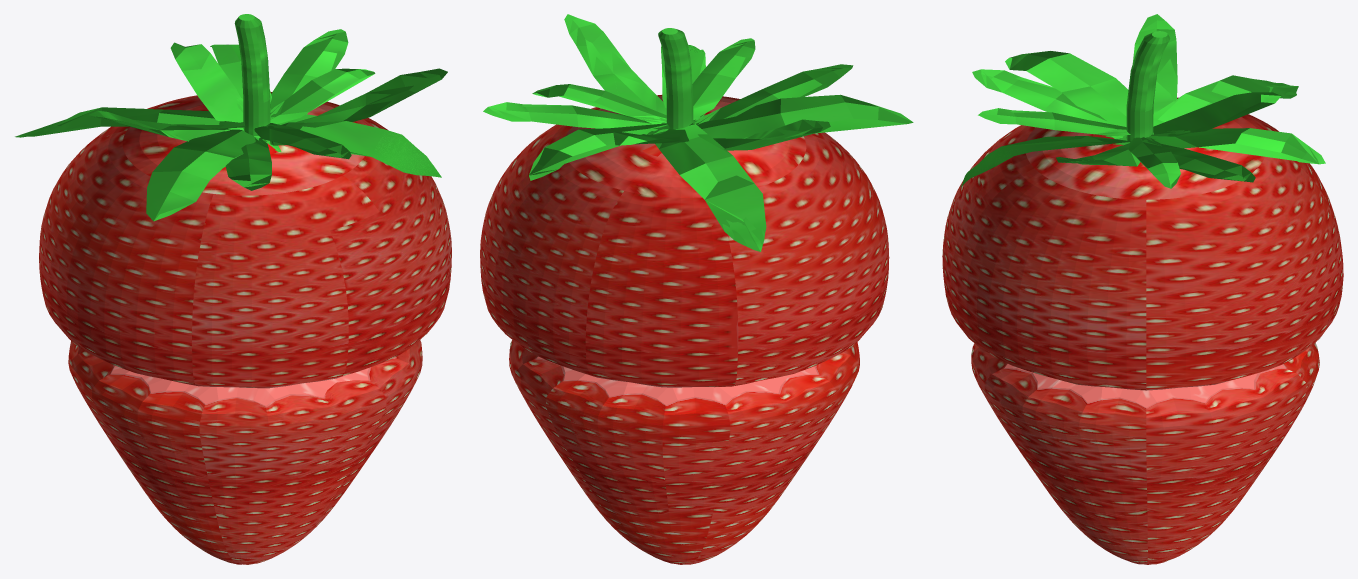
Rendered from StrawberrySliced.fbx.
The picture shows the model from 3 angles, left to right: view 1: azimuth 30°, elevation 25°; view 2: azimuth 150°, elevation 25°; view 3: azimuth 270°, elevation 25°; orthographic projection.
Parts seen in each view (by area): view 1: Top, Bottom; view 2: Top, Bottom; view 3: Top, Bottom.
Boxes of the visible parts, x1,y1,x2,y2 form: Top: [15, 14, 451, 388]; Bottom: [68, 340, 422, 564]; Top: [480, 14, 913, 387]; Bottom: [509, 340, 859, 564]; Top: [942, 14, 1343, 390]; Bottom: [971, 343, 1319, 564].
Size of the model in its own units: 57.15 by 82.4 by 56.19.
